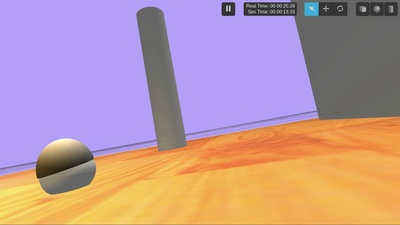mira_robot: (37, 138, 96, 195)
